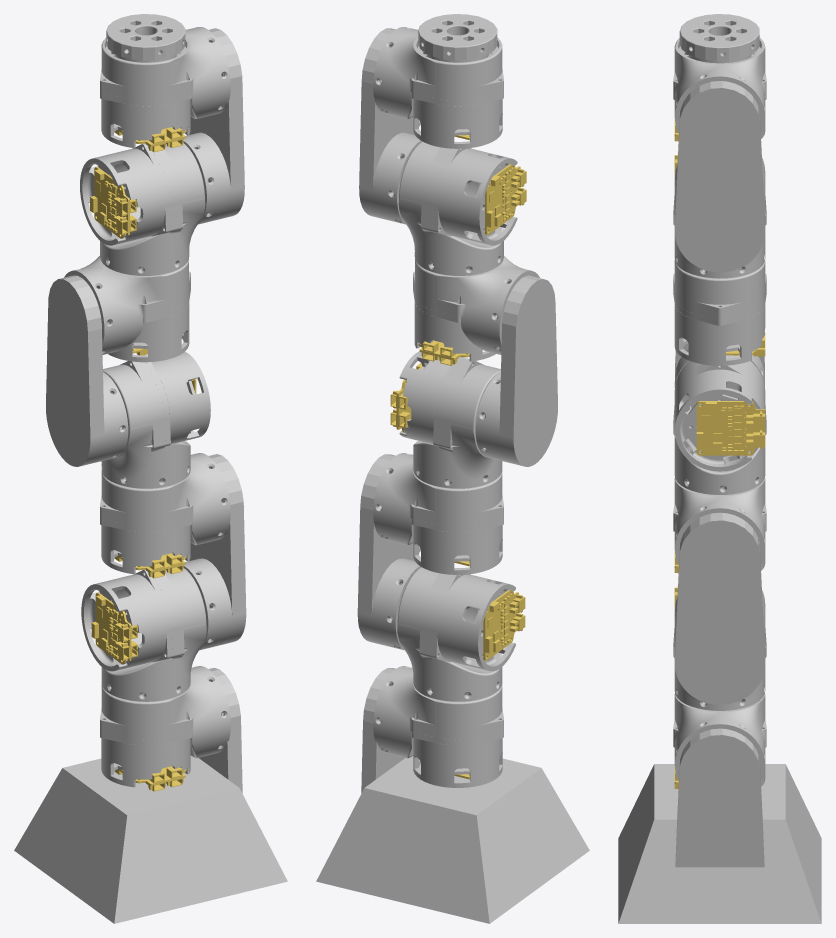
File: 7DOF_robot_arm_90_degrees.glb
3 views of the same model, side by side, from view 1: azimuth 30°, elevation 25°; view 2: azimuth 150°, elevation 25°; view 3: azimuth 270°, elevation 25° (orthographic).
Visible parts, largest first — view 1: 7dofarm glb; view 2: 7dofarm glb; view 3: 7dofarm glb.
Boxes of the visible parts, bbox=[...] form: 7dofarm glb: bbox=[14, 14, 287, 923]; 7dofarm glb: bbox=[316, 14, 589, 923]; 7dofarm glb: bbox=[618, 14, 821, 923].
Bounding box in the file's own units: 15.71 × 72.33 × 15.71.
